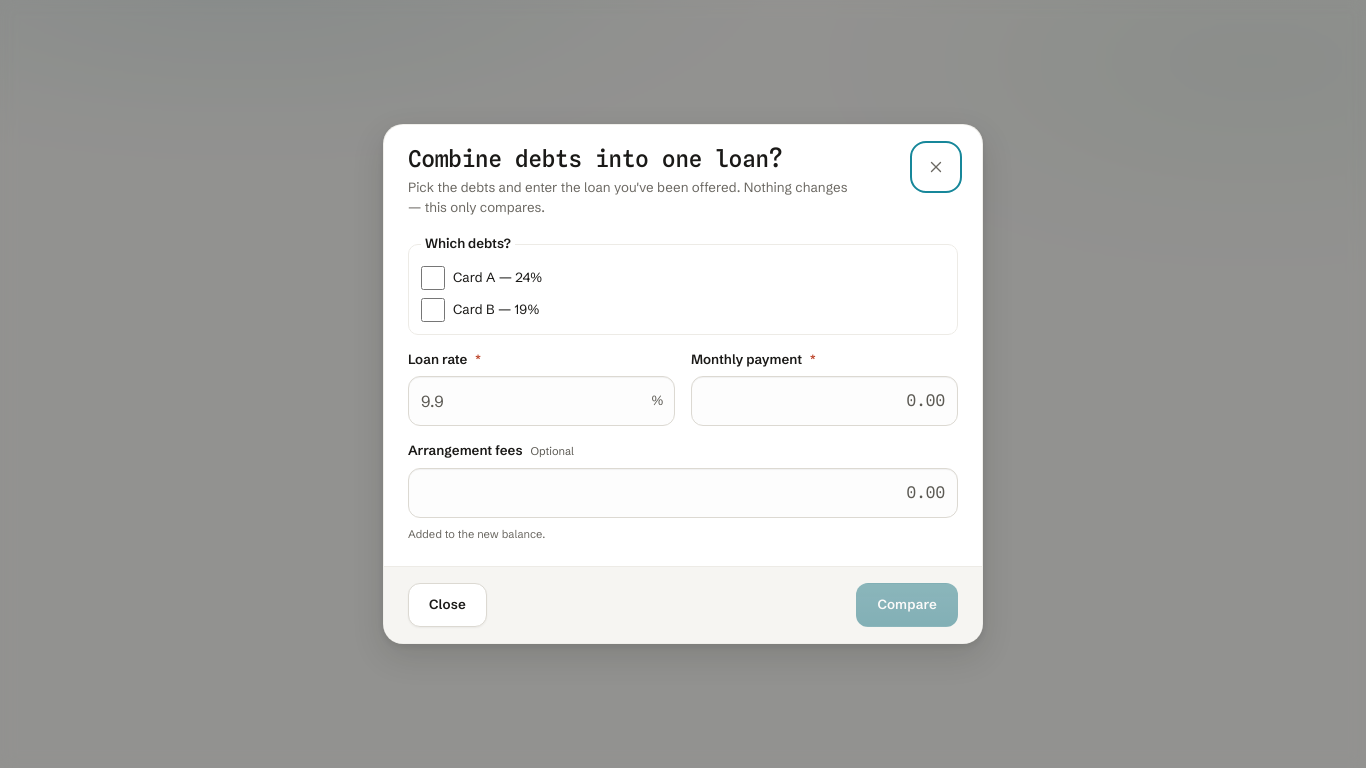
Test case: ConsolidationModal › keeps the compare button disabled until two are picked
Expected: the button "Compare" is disabled, x1=856 y1=583 x2=958 y2=627
Click the checkbox labelled "Card A — 24%" at (433, 278), box x1=421 y1=266 x2=445 y2=290
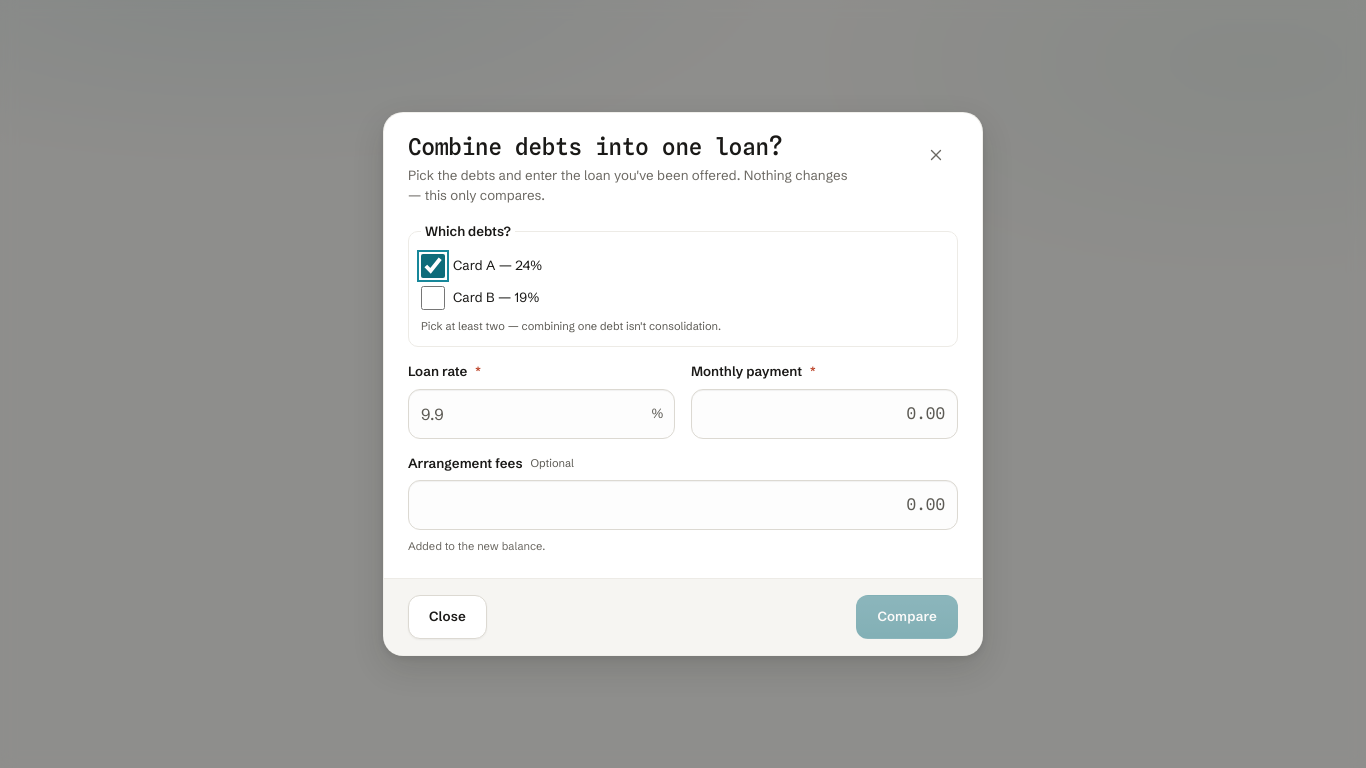
Expected: the button "Compare" is disabled, x1=856 y1=595 x2=958 y2=639
Result: the text "Pick at least two — combining one debt isn't consolidation." is shown at x1=421 y1=319 x2=721 y2=333
Click the checkbox labelled "Card B — 19%" at (433, 298), box x1=421 y1=286 x2=445 y2=310
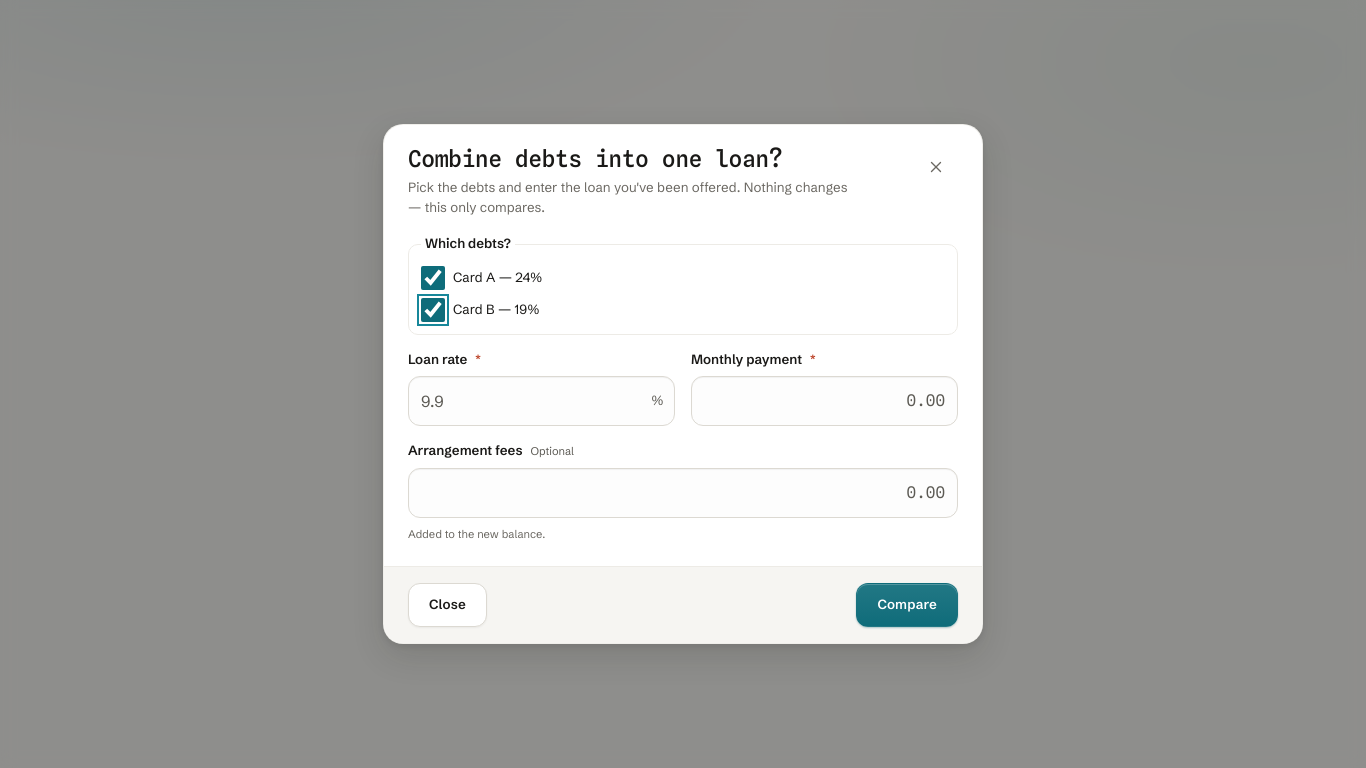
Result: the button "Compare" is enabled at x1=856 y1=583 x2=958 y2=627
